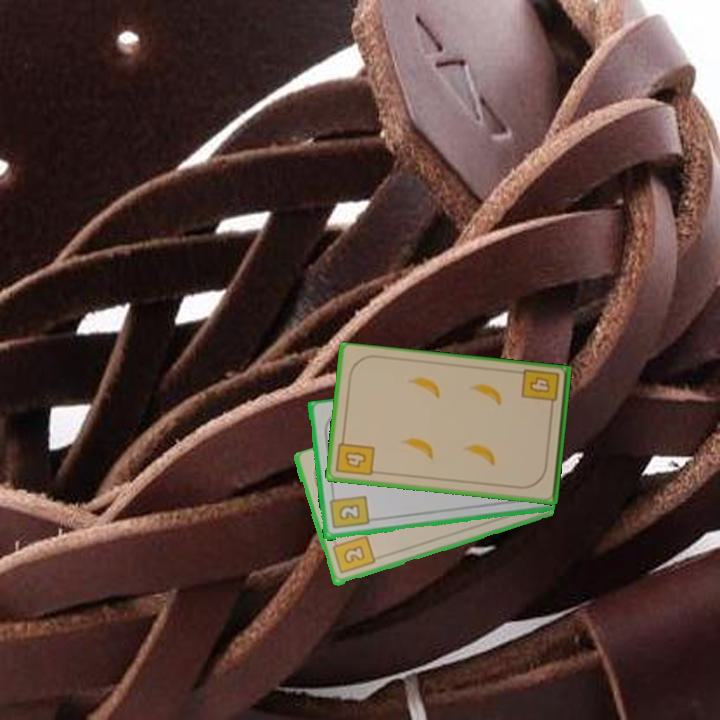2b: (328, 532, 377, 577), (326, 490, 371, 532)
4b: (518, 366, 562, 414), (333, 433, 377, 479)
